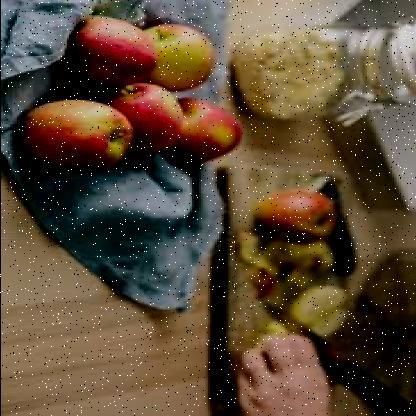apple: (28, 95, 130, 170), (104, 80, 182, 151), (66, 16, 148, 82), (162, 97, 245, 162), (146, 22, 216, 88), (252, 187, 332, 240)
